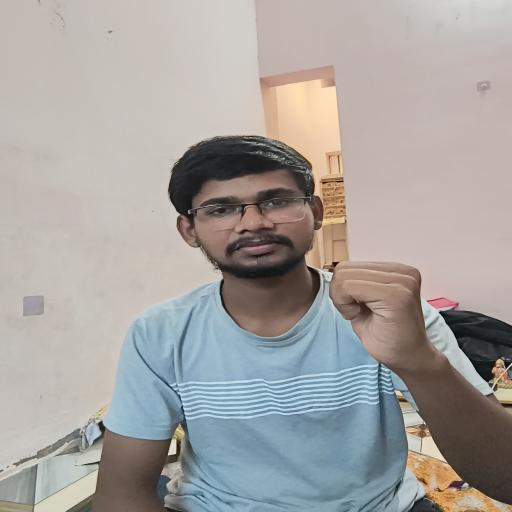wait: (318, 246, 460, 385)
